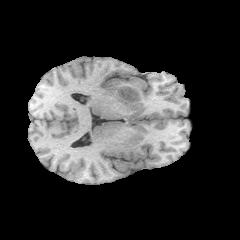glioma: (110, 77, 146, 105)
